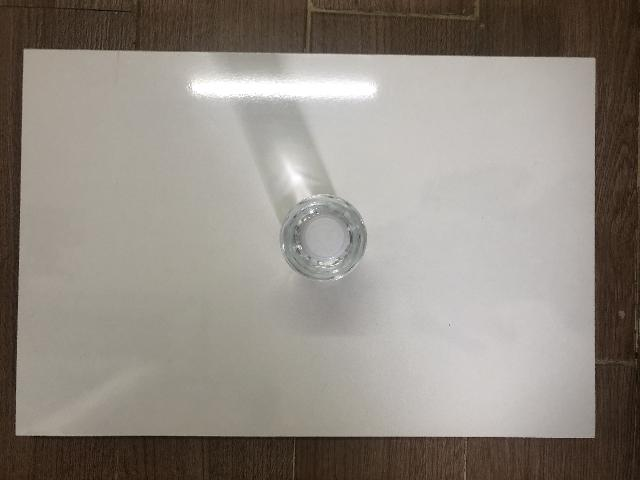aquafina: (280, 194, 369, 283)
